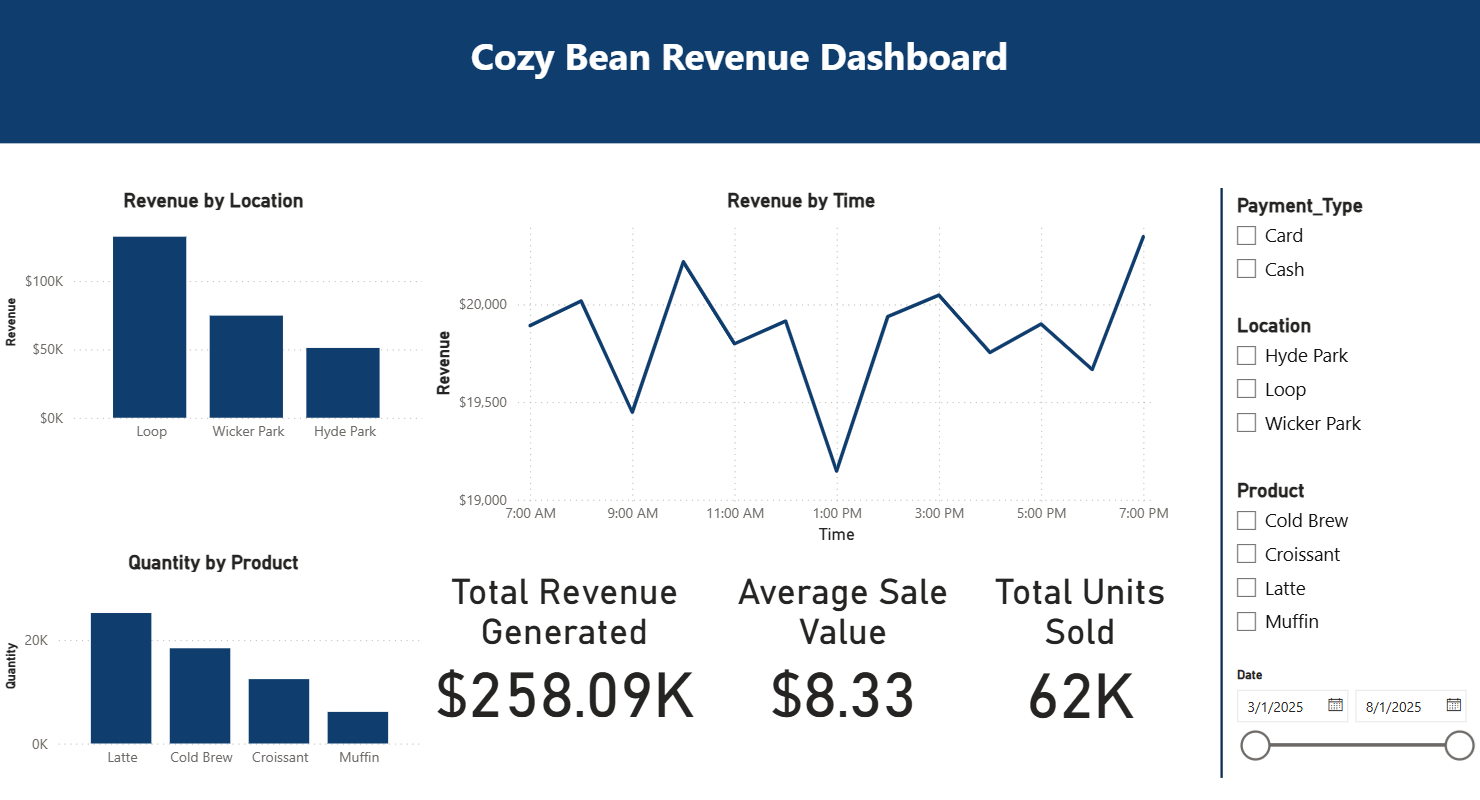

The page's visual inventory and layout, read from the dashboard file:
{"tool":"powerbi","page":{"name":"Page 1","canvas":[1280,720],"ordinal":0},"visuals":[{"type":"clusteredColumnChart","title":"Revenue by Location","fields":{"Category":["Sales.Location"],"Y":["Sum(Sales.Revenue)"]},"box":[0,191.8,370.1,228.2],"z":0},{"type":"clusteredColumnChart","title":"Quantity by Product","fields":{"Category":["Sales.Product"],"Y":["Sum(Sales.Quantity)"]},"box":[0,503.7,370.1,196.9],"z":1000},{"type":"lineChart","title":"Revenue by Time","fields":{"Category":["Sales.Time"],"Y":["Sum(Sales.Revenue)"]},"box":[370.1,191.8,643.9,311.8],"z":2000},{"type":"slicer","fields":{"Values":["Sales.Location"]},"box":[1054.6,294.9,142,125.1],"z":3000},{"type":"slicer","fields":{"Values":["Sales.Payment_Type"]},"box":[1054.6,191.8,165.6,89.6],"z":4000},{"type":"slicer","fields":{"Values":["Sales.Product"]},"box":[1054.6,436.9,129.3,150.4],"z":5000},{"type":"slicer","fields":{"Values":["Sales.Date"]},"box":[1054.6,600,225.6,100.6],"z":6000},{"type":"card","title":"Total Revenue Generated","fields":{"Values":["Sum(Sales.Revenue)"]},"box":[370.1,520.6,231.5,132.7],"z":7000},{"type":"card","title":"Total Units Sold","fields":{"Values":["Sum(Sales.Quantity)"]},"box":[850.1,520.6,163.9,132.7],"z":8000},{"type":"card","title":"Average Sale Value","fields":{"Values":["Sales.Average_Sale_Value"]},"box":[619.4,520.6,203.7,132.7],"z":9000},{"type":"shape","box":[0,0,1280.3,153],"z":9001},{"type":"textbox","box":[402.3,49.9,474.1,53.2],"z":9002},{"type":"shape","box":[1038.6,191.8,32.1,508.7],"z":9003}]}

Visuals, with their boxes on the page's 1280x720 design canvas (x1, y1, x2, y2). These are canvas units, not pixel positions in the 1480x800 screenshot, which may show the page scaled, cropped or inside an application window:
"Revenue by Location" clusteredColumnChart: [0,192,370,420]
"Quantity by Product" clusteredColumnChart: [0,504,370,701]
"Revenue by Time" lineChart: [370,192,1014,504]
slicer - Sales.Location: [1055,295,1197,420]
slicer - Sales.Payment_Type: [1055,192,1220,281]
slicer - Sales.Product: [1055,437,1184,587]
slicer - Sales.Date: [1055,600,1280,701]
"Total Revenue Generated" card: [370,521,602,653]
"Total Units Sold" card: [850,521,1014,653]
"Average Sale Value" card: [619,521,823,653]
shape: [0,0,1280,153]
textbox: [402,50,876,103]
shape: [1039,192,1071,700]
